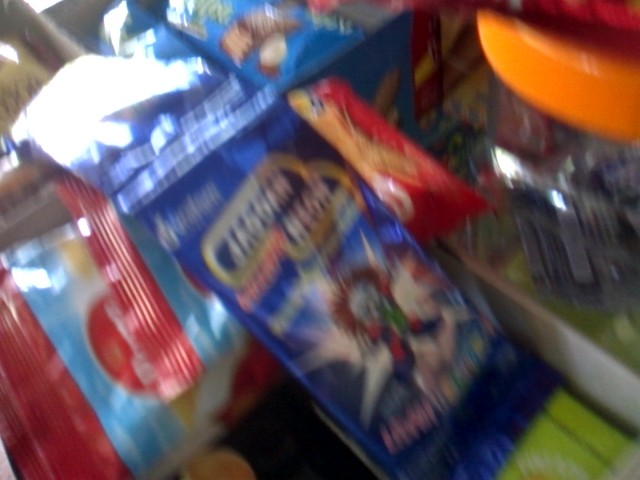jagoan neon: (109, 79, 561, 479)
